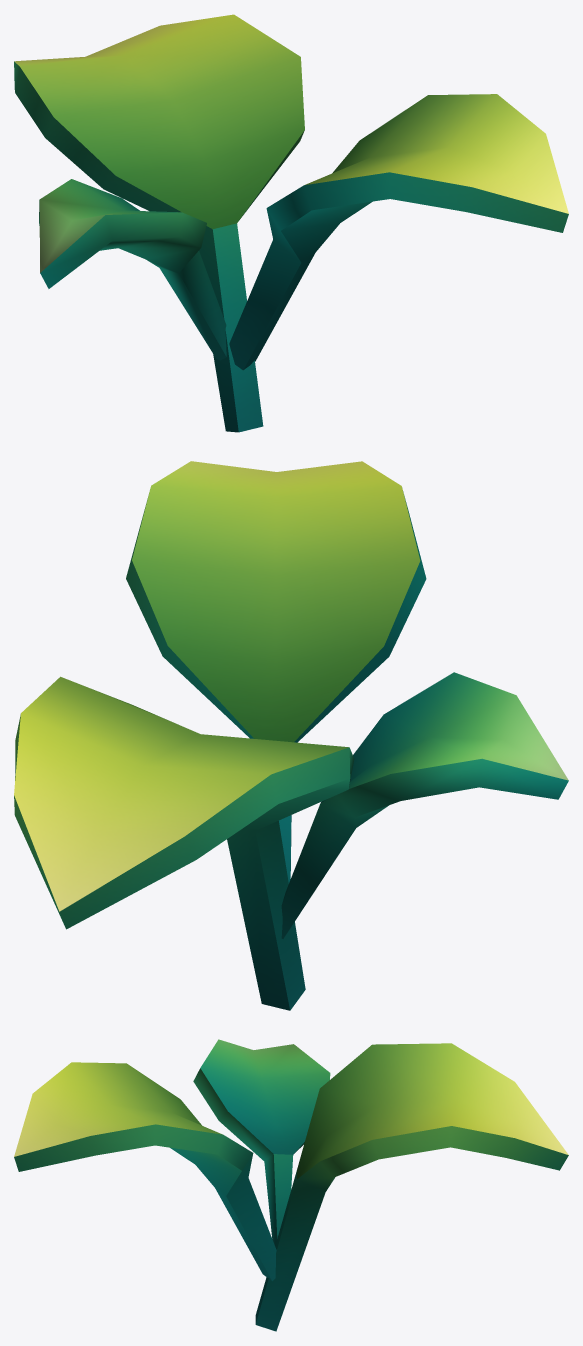
The model's file is greens_003.fbx.
The picture shows the model from 3 angles, top to bottom: view 1: azimuth 30°, elevation 25°; view 2: azimuth 150°, elevation 25°; view 3: azimuth 270°, elevation 25°; orthographic projection. The views are drawn at different scales.
Parts seen in each view (by area): view 1: greens_003; view 2: greens_003; view 3: greens_003.
Boxes of the visible parts, x1,y1,x2,y2 form: greens_003: (14, 14, 568, 432); greens_003: (14, 461, 568, 1010); greens_003: (14, 1039, 568, 1331).
Size of the model in its own units: 5.81 by 8.49 by 4.61.
